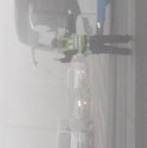person: (50, 31, 132, 61)
